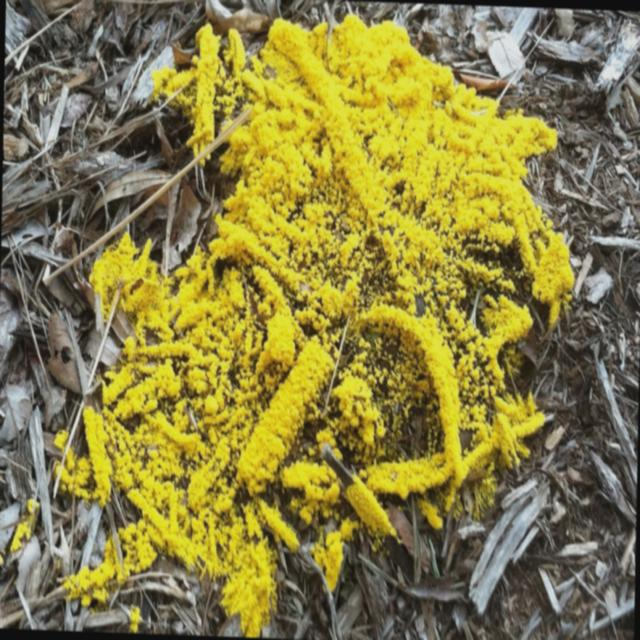Dog_vomit_slime_mold: (103, 19, 580, 640)
